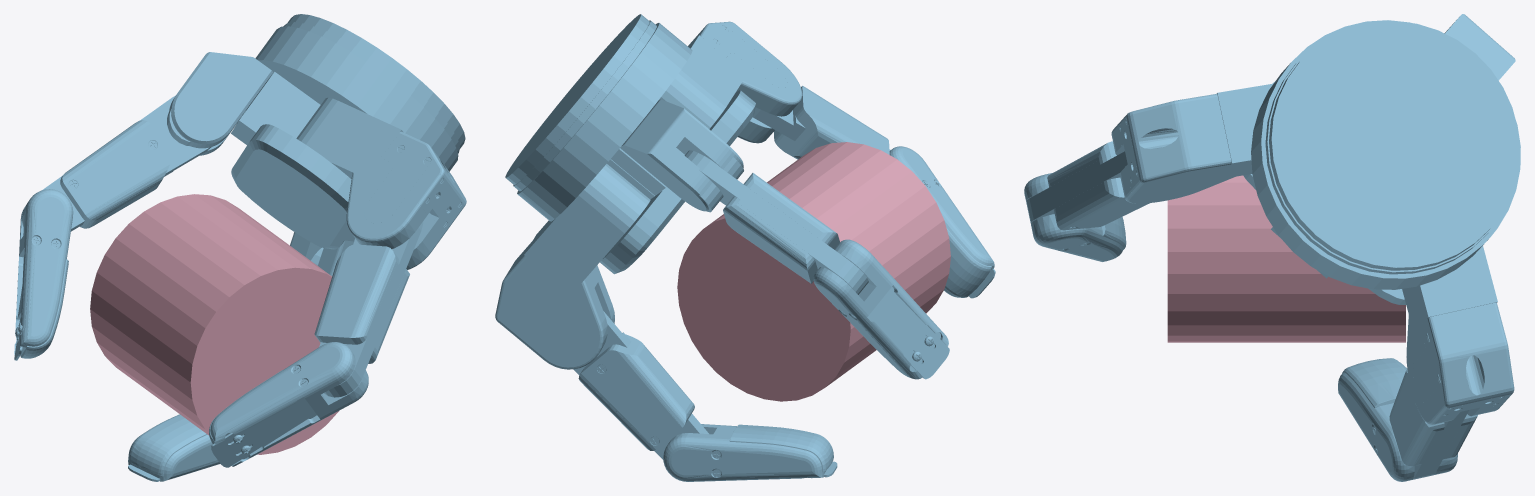
3 renders of one model, left to right at view 1: azimuth 30°, elevation 25°; view 2: azimuth 150°, elevation 25°; view 3: azimuth 270°, elevation 25°, orthographic. The views are drawn at different scales.
Parts seen in each view (by area): view 1: world, cylinder_medium.stl; view 2: world, cylinder_medium.stl; view 3: world, cylinder_medium.stl.
Part boxes in pixels (<box>): world: <box>14,14,466,481</box>; cylinder_medium.stl: <box>90,194,339,454</box>; world: <box>495,14,995,481</box>; cylinder_medium.stl: <box>677,142,950,401</box>; world: <box>1024,14,1520,481</box>; cylinder_medium.stl: <box>1167,175,1405,342</box>.
Size of the model in its own units: 0.1959 by 0.1843 by 0.1666.
